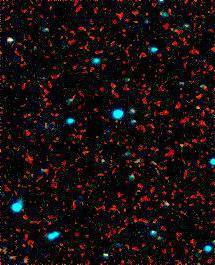star: (184, 93, 214, 123)
